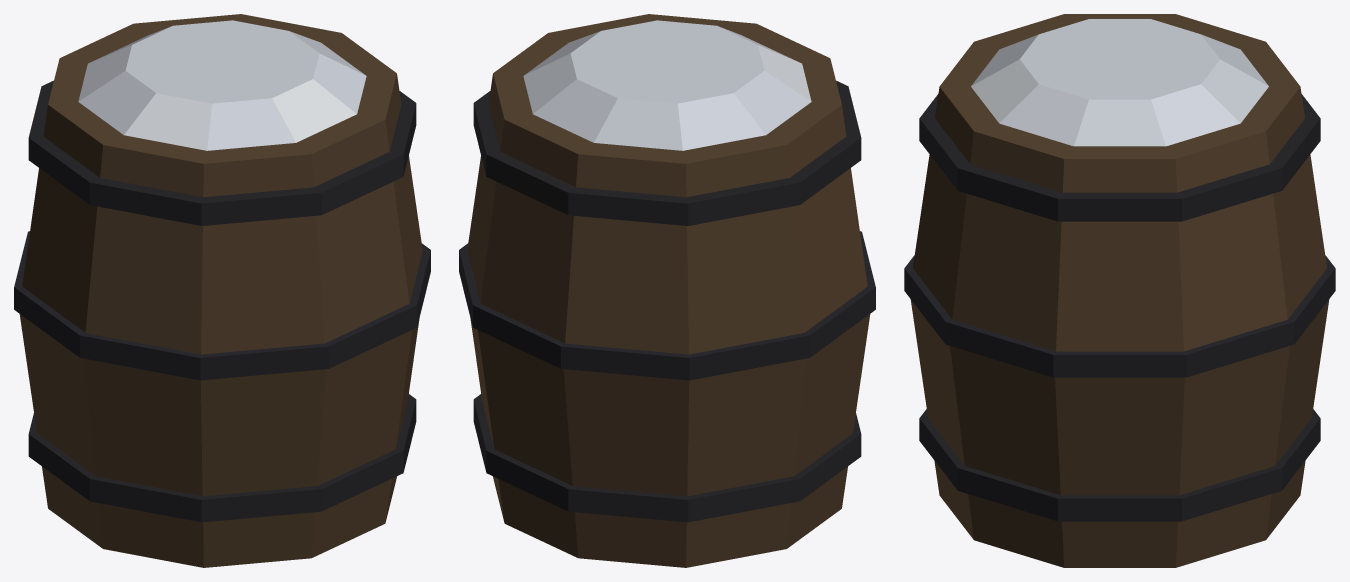
Rendered from village_barrel.glb.
The picture shows the model from 3 angles, left to right: view 1: azimuth 30°, elevation 25°; view 2: azimuth 150°, elevation 25°; view 3: azimuth 270°, elevation 25°; orthographic projection.
Parts seen in each view (by area): view 1: village_barrel; view 2: village_barrel; view 3: village_barrel.
Part boxes in pixels (x1,y1,x2,y2): village_barrel: (14, 14, 430, 567); village_barrel: (459, 14, 875, 567); village_barrel: (904, 14, 1335, 567).
Size of the model in its own units: 0.8179 by 0.96 by 0.86.
